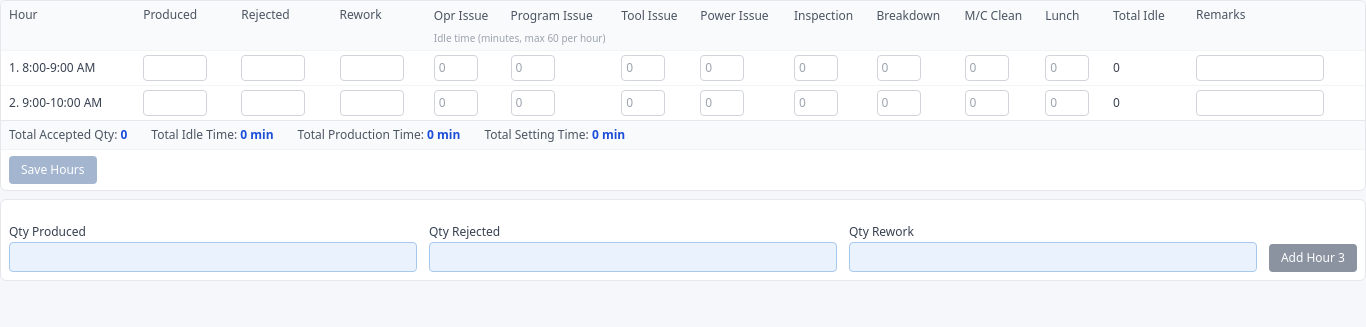
HourlySlotsEntry -- qty validation › decimal rejected blocks Save; fixing it saves whole numbers
Later steps or results of the test are not shown.
Type "10" into the number field named "Hour 1 produced" at (175, 68), box [143,55,207,81]
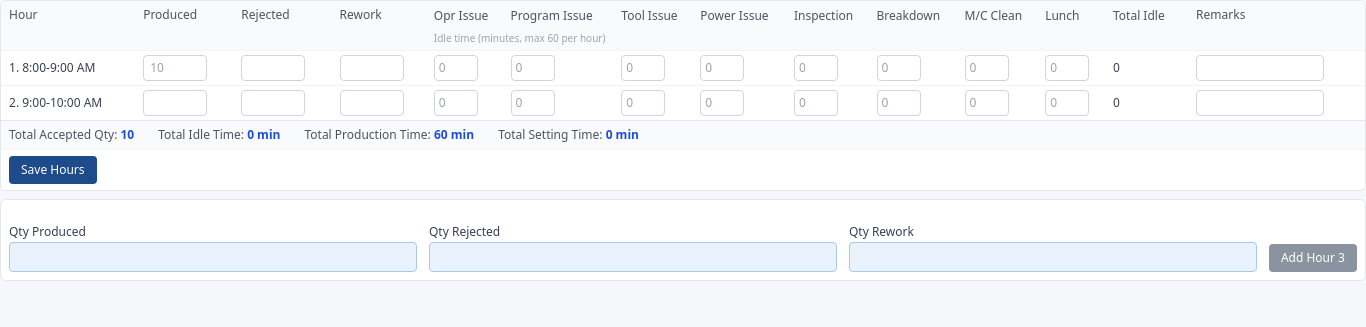
Type "1.5" into the number field named "Hour 1 rejected" at (273, 68), box [241,55,305,81]
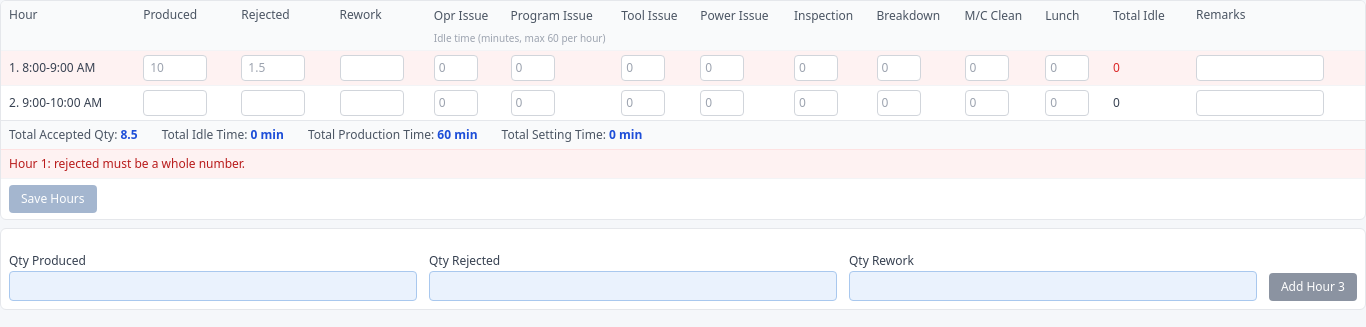
Expected: the text "Hour 1: rejected must be a whole number." is shown, [9,155,245,172]
